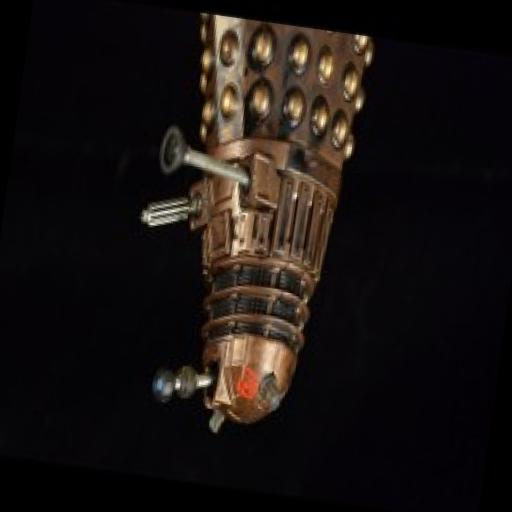dalek: (105, 10, 386, 452)
